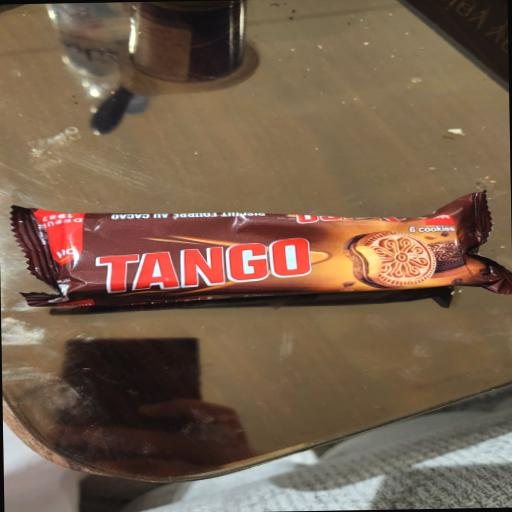tango: (6, 160, 512, 367)
